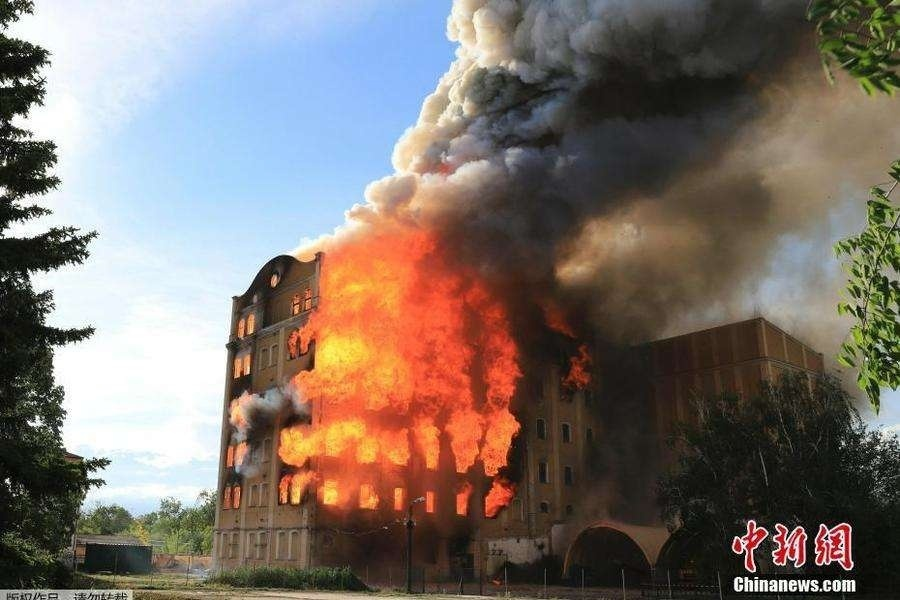fire: (271, 220, 533, 523), (564, 342, 592, 386)
